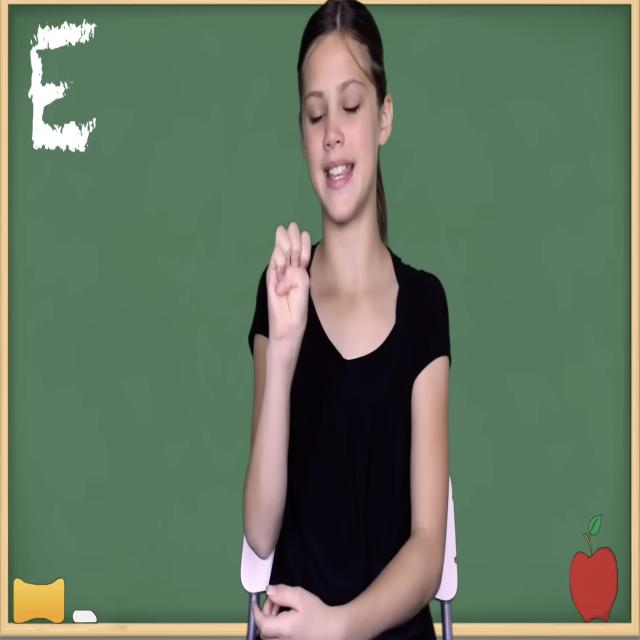E: (256, 216, 327, 363)
